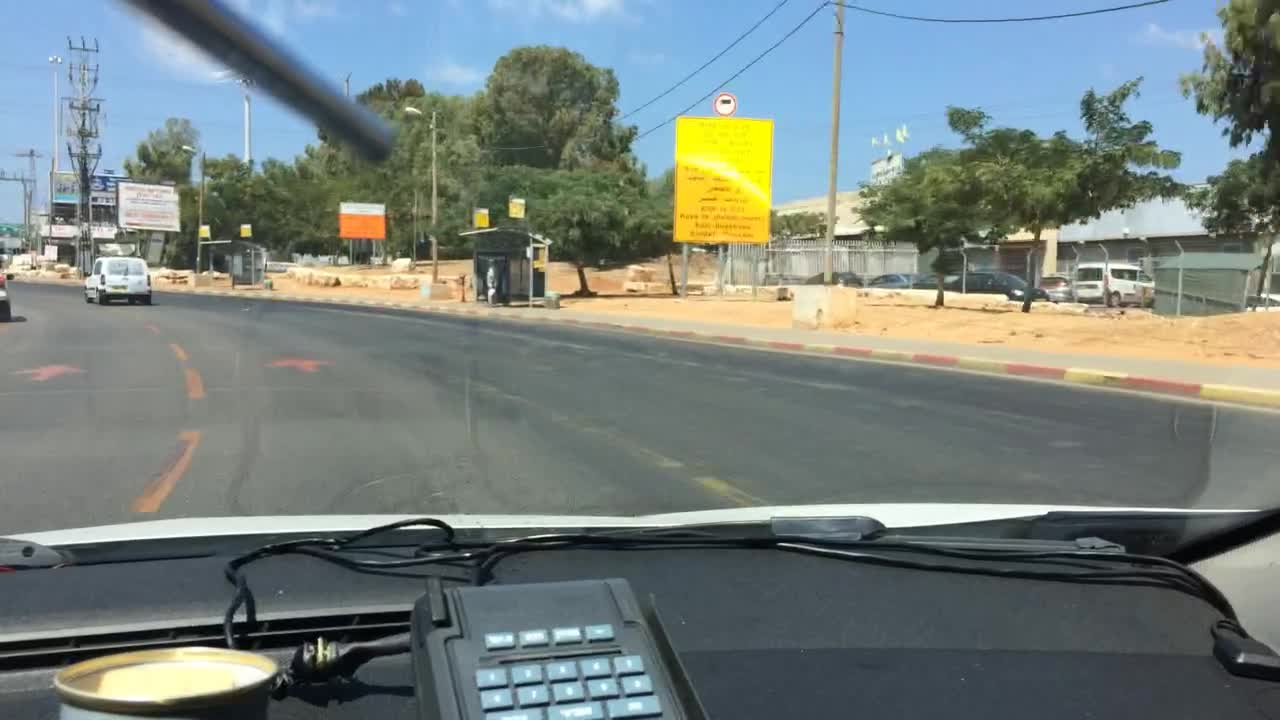car: (1076, 260, 1157, 304), (82, 257, 151, 304), (954, 269, 1045, 304), (864, 272, 920, 291), (810, 271, 864, 289), (1041, 272, 1071, 301), (917, 272, 951, 290), (0, 272, 11, 322)
person: (481, 254, 499, 309)
traffic sign: (121, 181, 182, 231), (339, 202, 384, 237), (713, 90, 738, 113), (471, 207, 489, 228), (238, 221, 255, 240), (510, 193, 522, 219), (197, 227, 212, 237)
